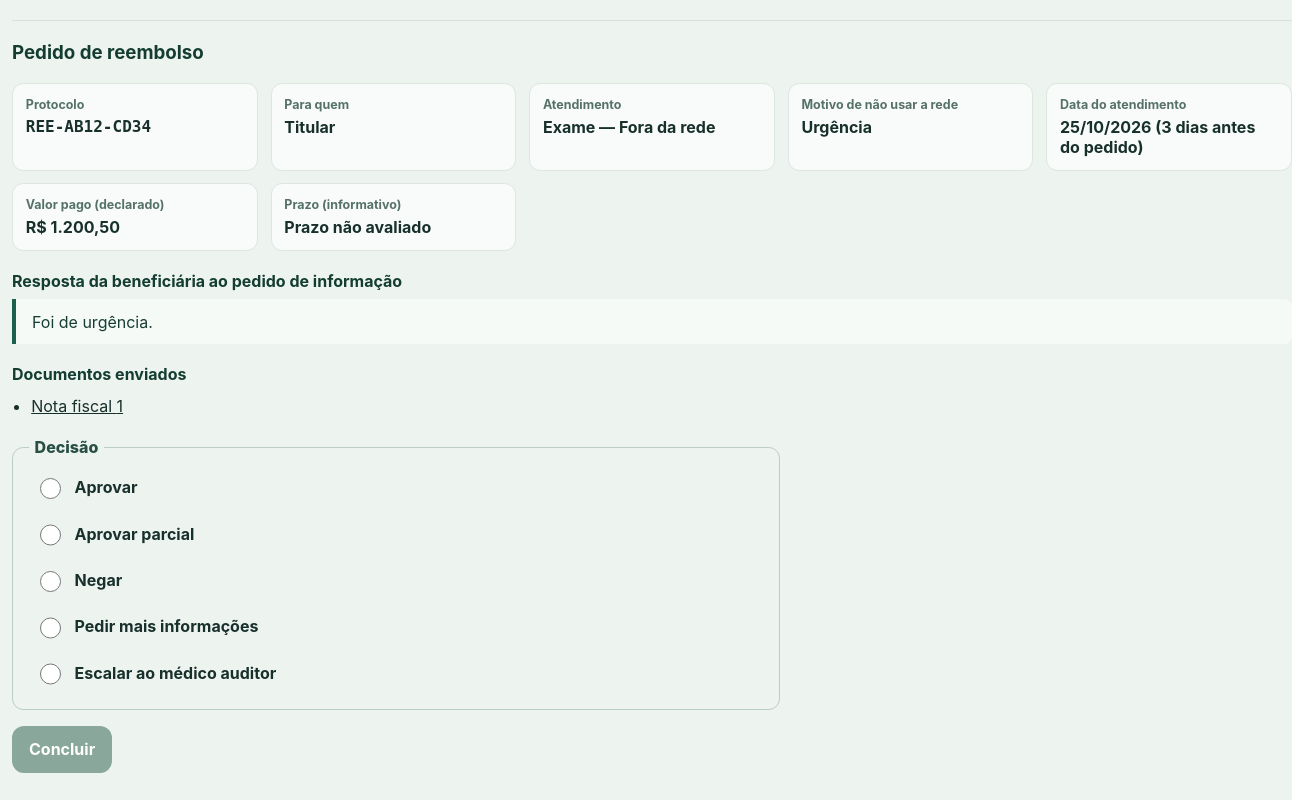
Test case: negar exige os tres textos e envia o corpo fechado, sem quem decidiu
The width and height of the screenshot is (1292, 800).
Expected: the text "REE-AB12-CD34" is shown, [26,117,151,136]
Click the radio button labelled "Negar".
click(50, 581)  # box [40,571,61,592]
(page scrolled)
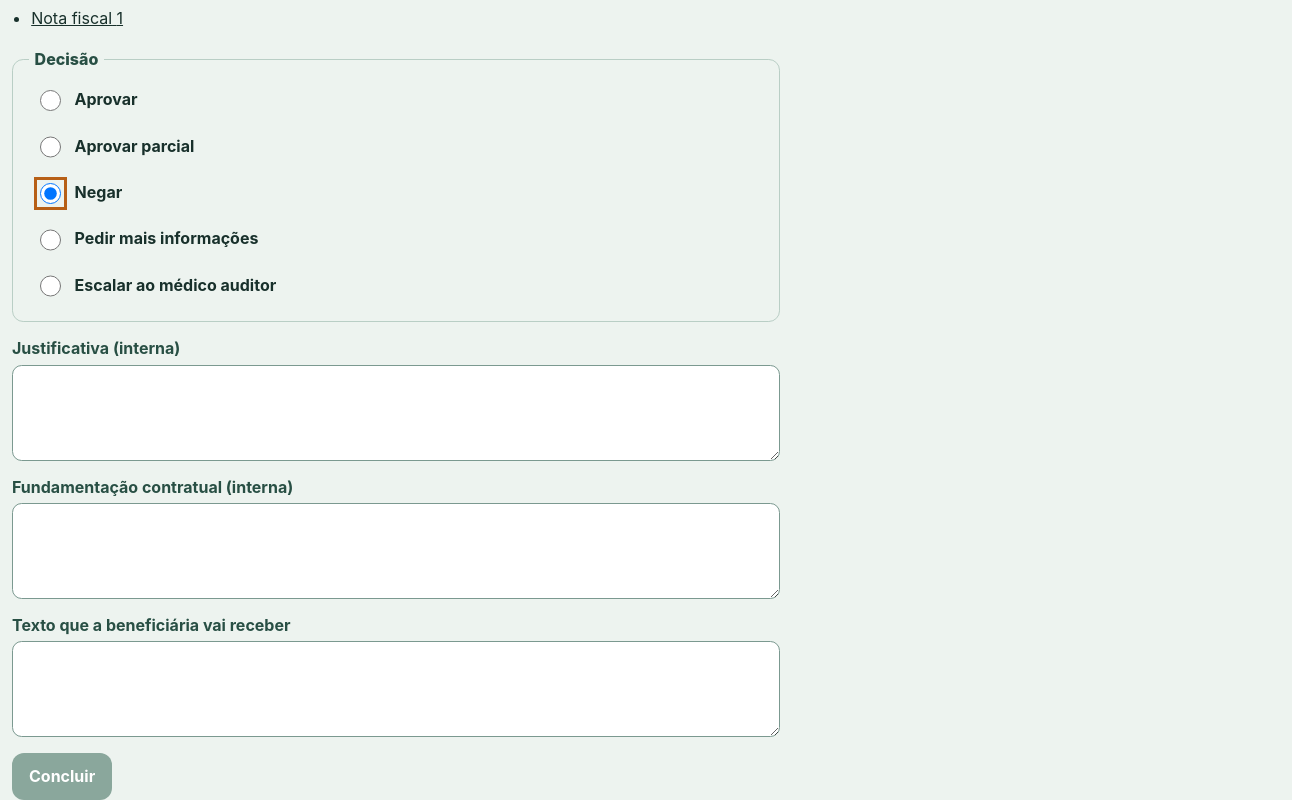
Expected: the button "Concluir" is disabled, [12,753,112,799]
Type "Fora do contrato" into the text box labelled "Justificativa (interna)".
click(396, 412); type("Fora do contrato")  # box [12,364,780,460]
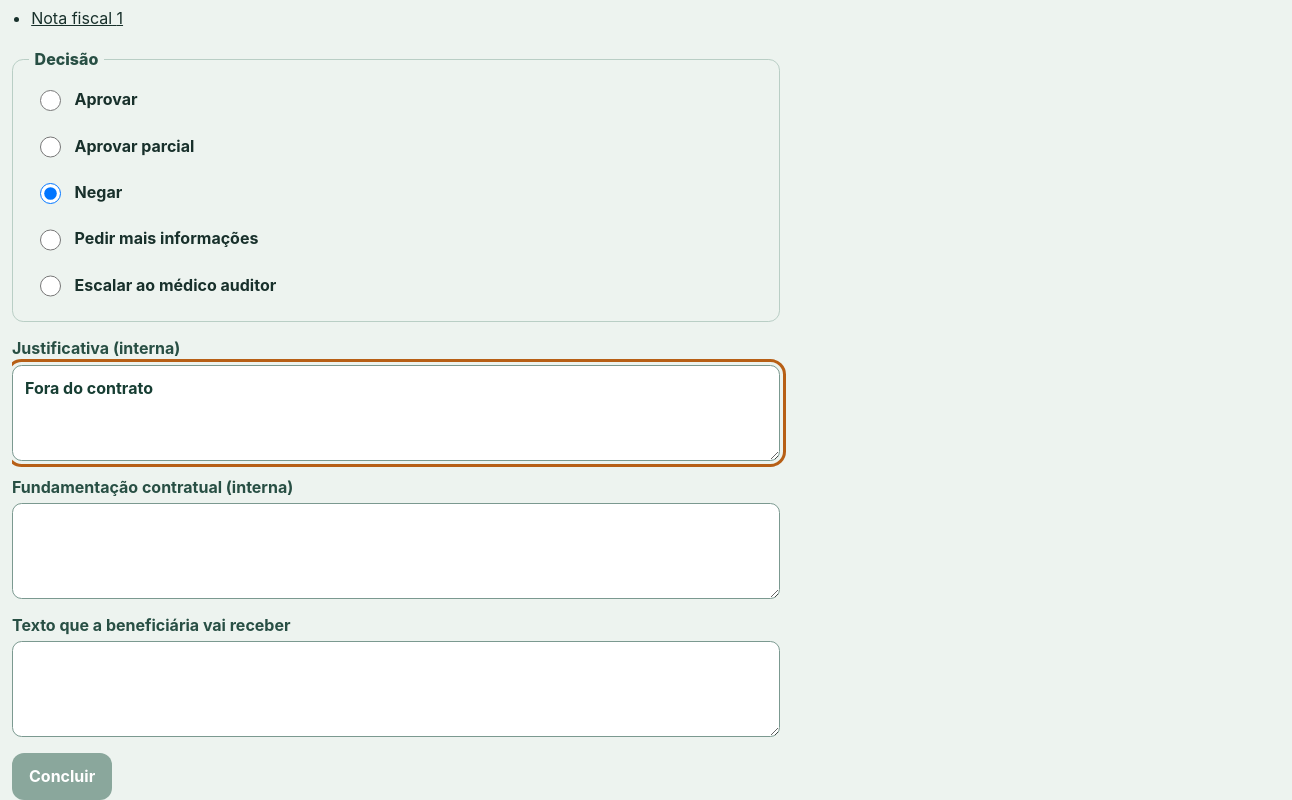
Type "Cláusula 5" into the text box labelled "Fundamentação contratual (interna)".
click(396, 551); type("Cláusula 5")  # box [12,503,780,599]
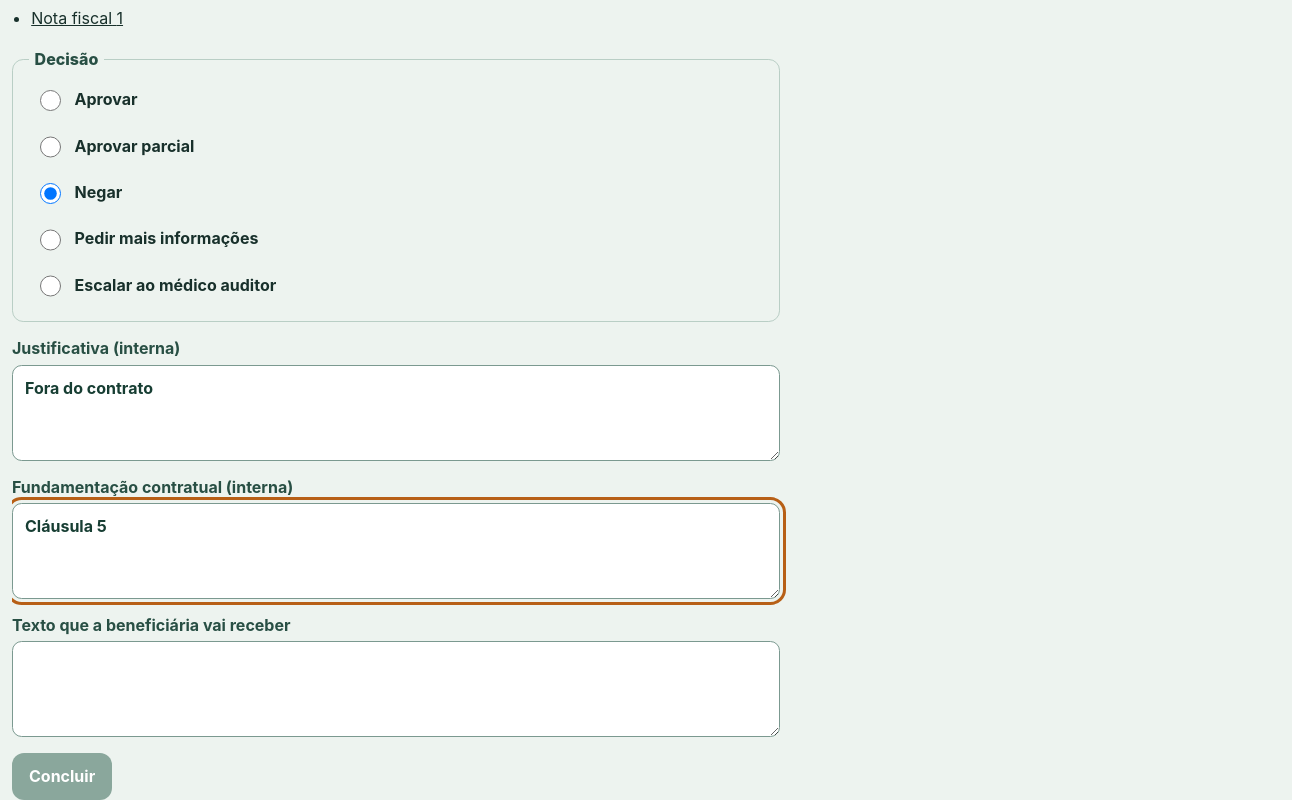
Type "Não está coberto." into the text box labelled "Texto que a beneficiária vai receber".
click(396, 689); type("Não está coberto.")  # box [12,641,780,737]
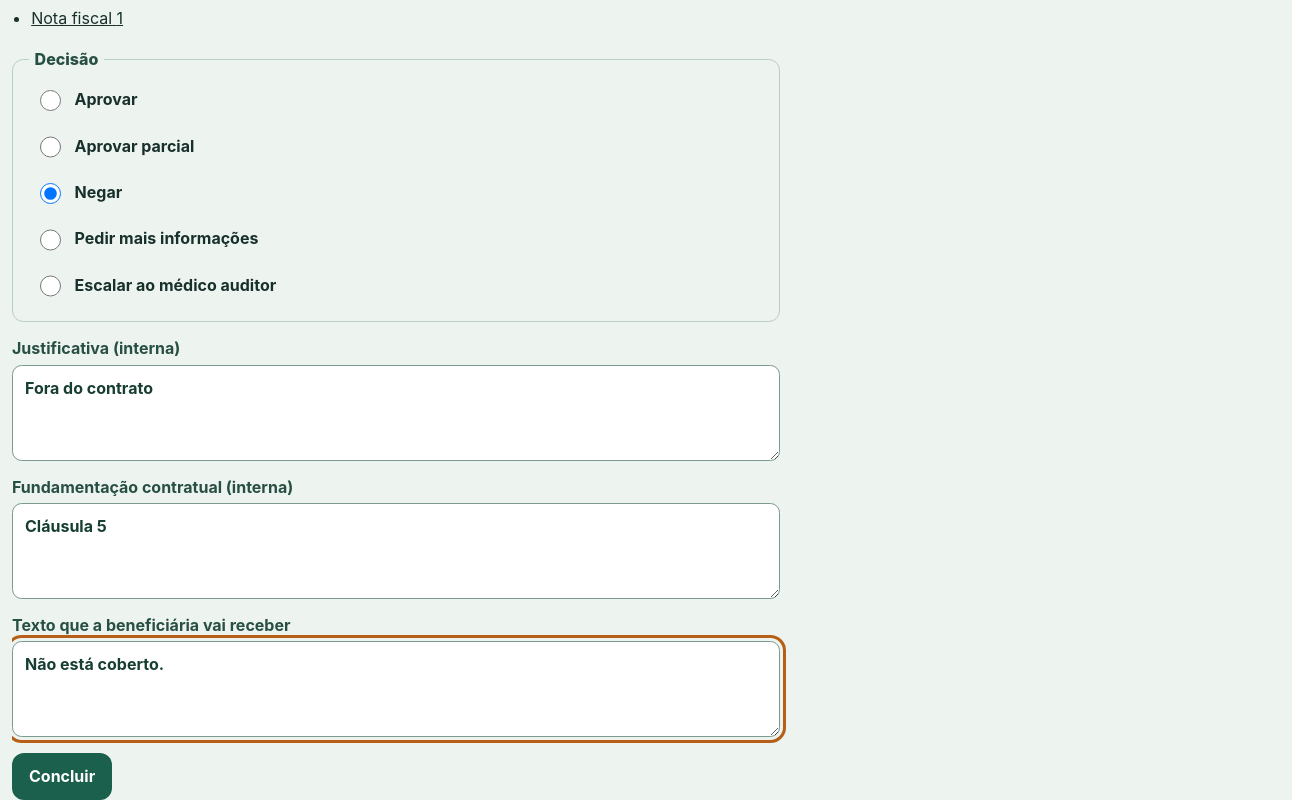
Click the button "Concluir".
click(62, 776)  # box [12,753,112,799]
(page scrolled)
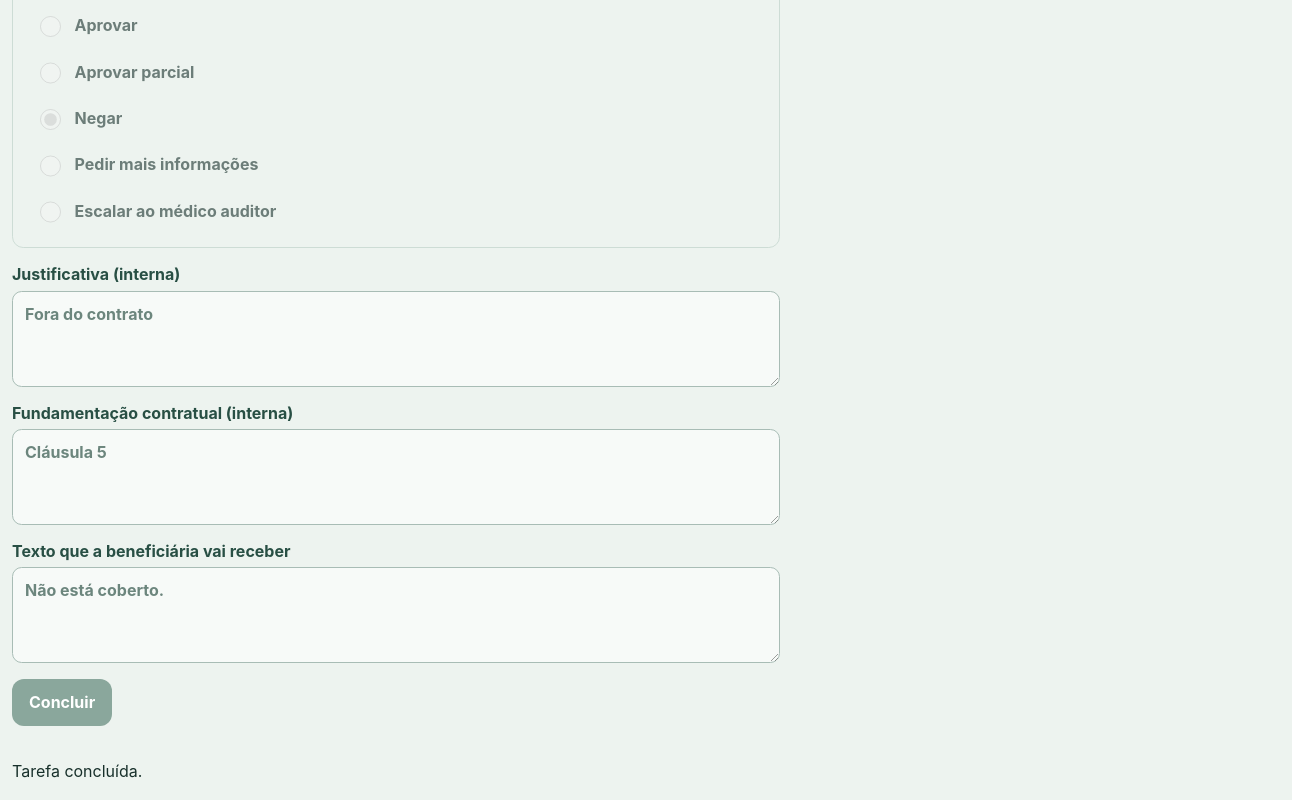
Now the message shows "Tarefa concluída", box [12,761,142,781]
